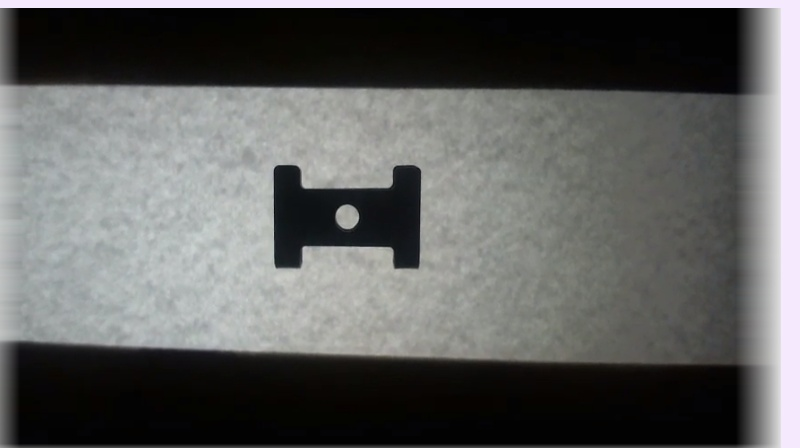O002: (269, 161, 423, 270)
